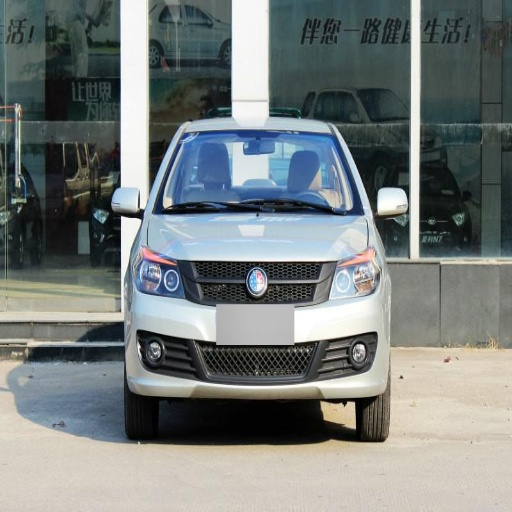front_bumper: (131, 261, 387, 400)
front_right_light: (137, 253, 181, 296)
hood: (144, 215, 370, 262)
